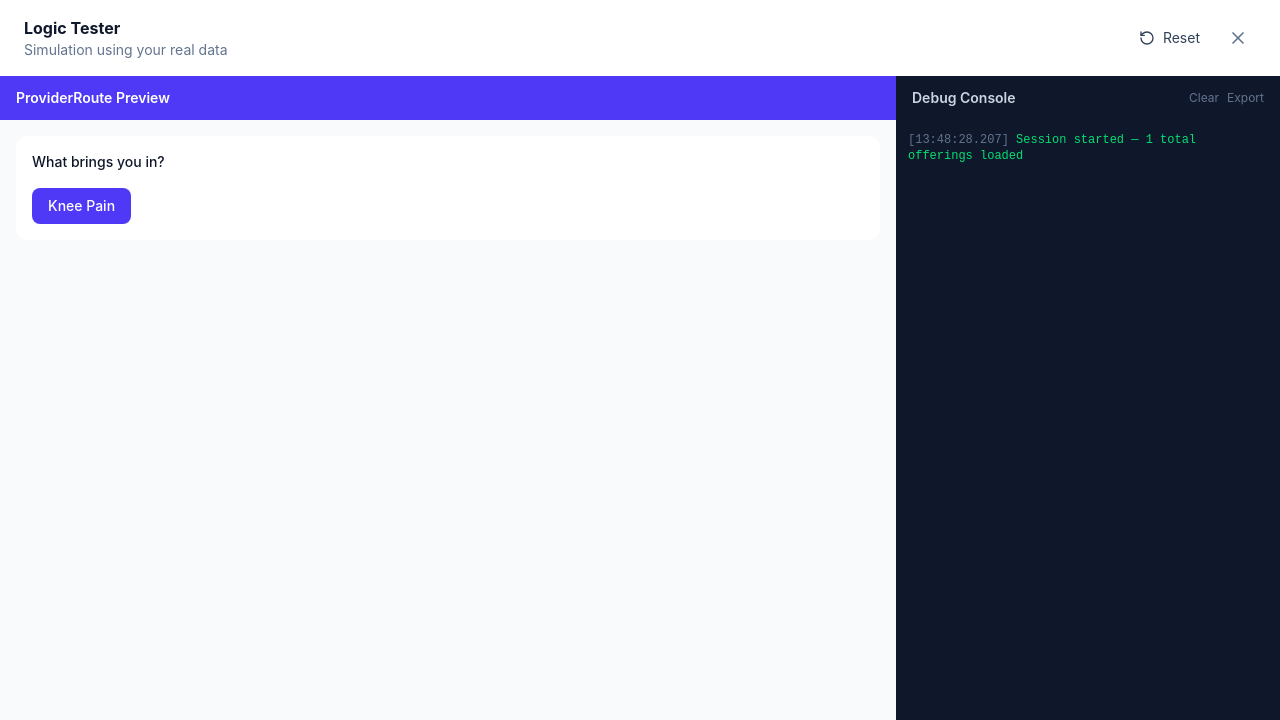
Test: LogicTester flow › auto-skips a clinical question with no backing data and lands on results
This screenshot has width=1280, height=720.
expect the text "What brings you in?" is shown: met, box [32,153,165,170]
Click the button "Knee Pain" at (82, 206), box [32,188,131,224]
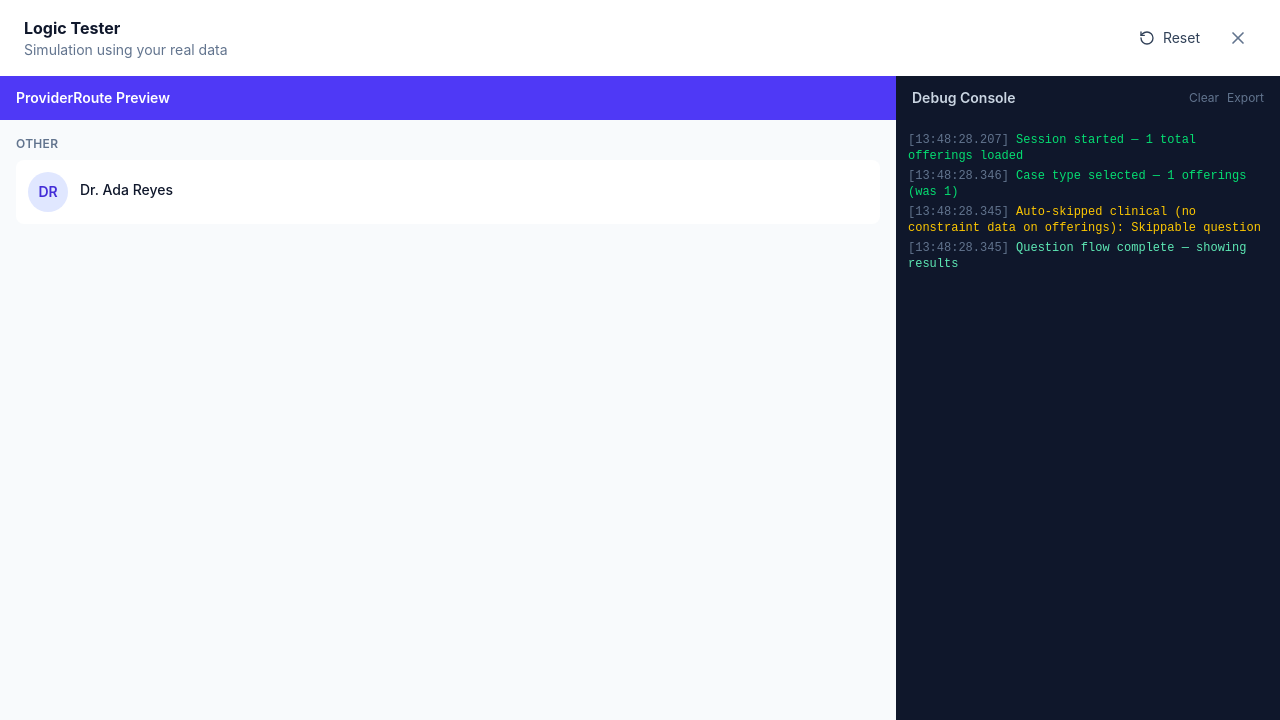
expect the text "Auto-skipped clinical" is shown: met, box [908,205,1261,235]
expect the text "[13:48:28.345] Question flow complete — showing results" is shown: met, box [908,240,1268,272]
